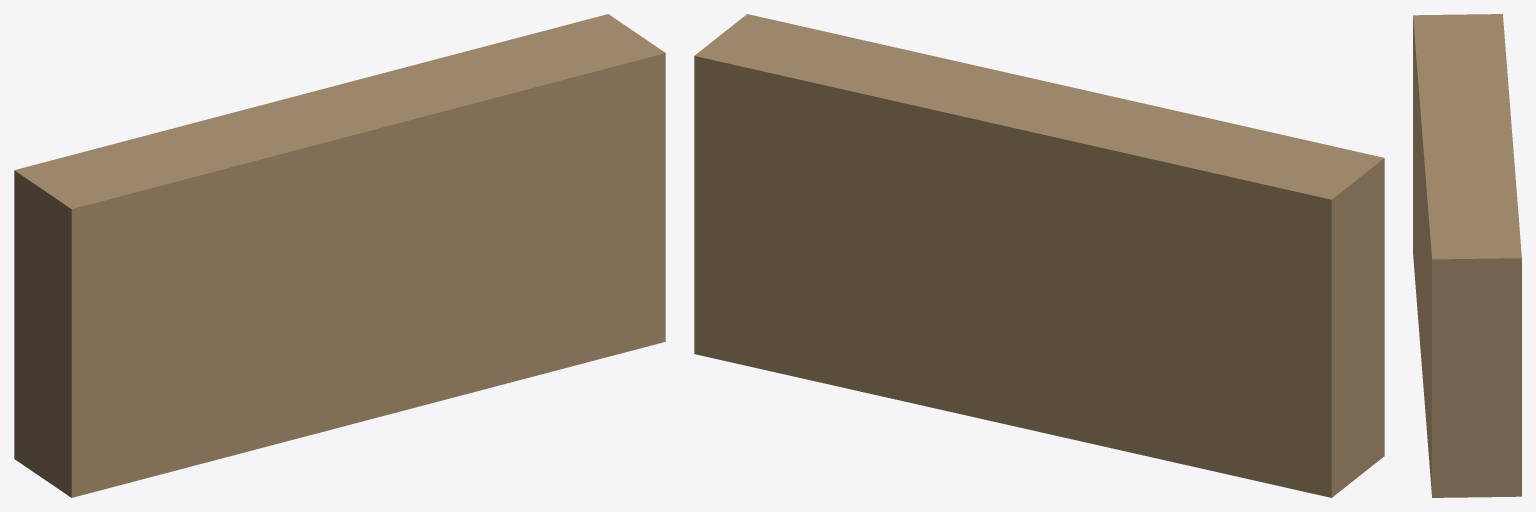
File: SM_L1_Rooms_Solid_950ec2e5ae_0.fbx
The picture shows the model from 3 angles, left to right: view 1: azimuth 30°, elevation 25°; view 2: azimuth 150°, elevation 25°; view 3: azimuth 270°, elevation 25°; orthographic projection. The views are drawn at different scales.
Parts seen in each view (by area): view 1: SM_L1_Rooms_Solid_950ec2e5ae_0; view 2: SM_L1_Rooms_Solid_950ec2e5ae_0; view 3: SM_L1_Rooms_Solid_950ec2e5ae_0.
Boxes of the visible parts, <box> form: SM_L1_Rooms_Solid_950ec2e5ae_0: <box>14,14,665,497</box>; SM_L1_Rooms_Solid_950ec2e5ae_0: <box>694,14,1384,497</box>; SM_L1_Rooms_Solid_950ec2e5ae_0: <box>1413,14,1521,497</box>.
Size of the model in its own units: 0.9046 by 0.1696 by 0.41.
